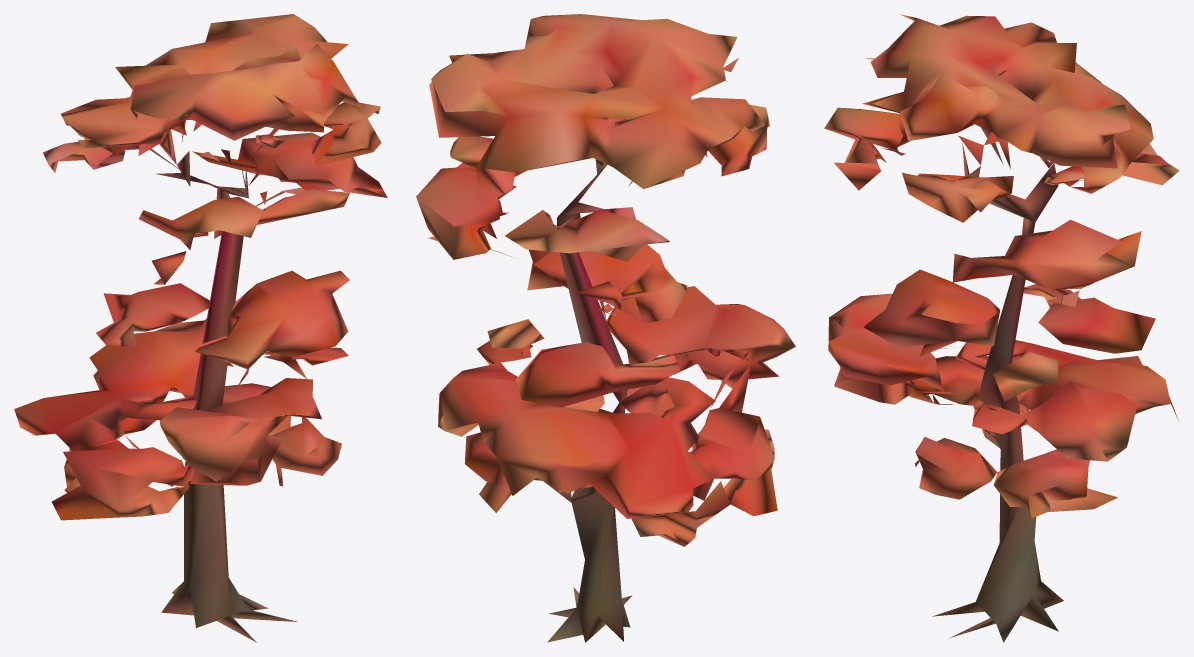
Rendered from tree_b_far.glb.
The picture shows the model from 3 angles, left to right: view 1: azimuth 30°, elevation 25°; view 2: azimuth 150°, elevation 25°; view 3: azimuth 270°, elevation 25°; orthographic projection.
Bounding box in the file's own units: 1.09 × 1.88 × 1.05.
